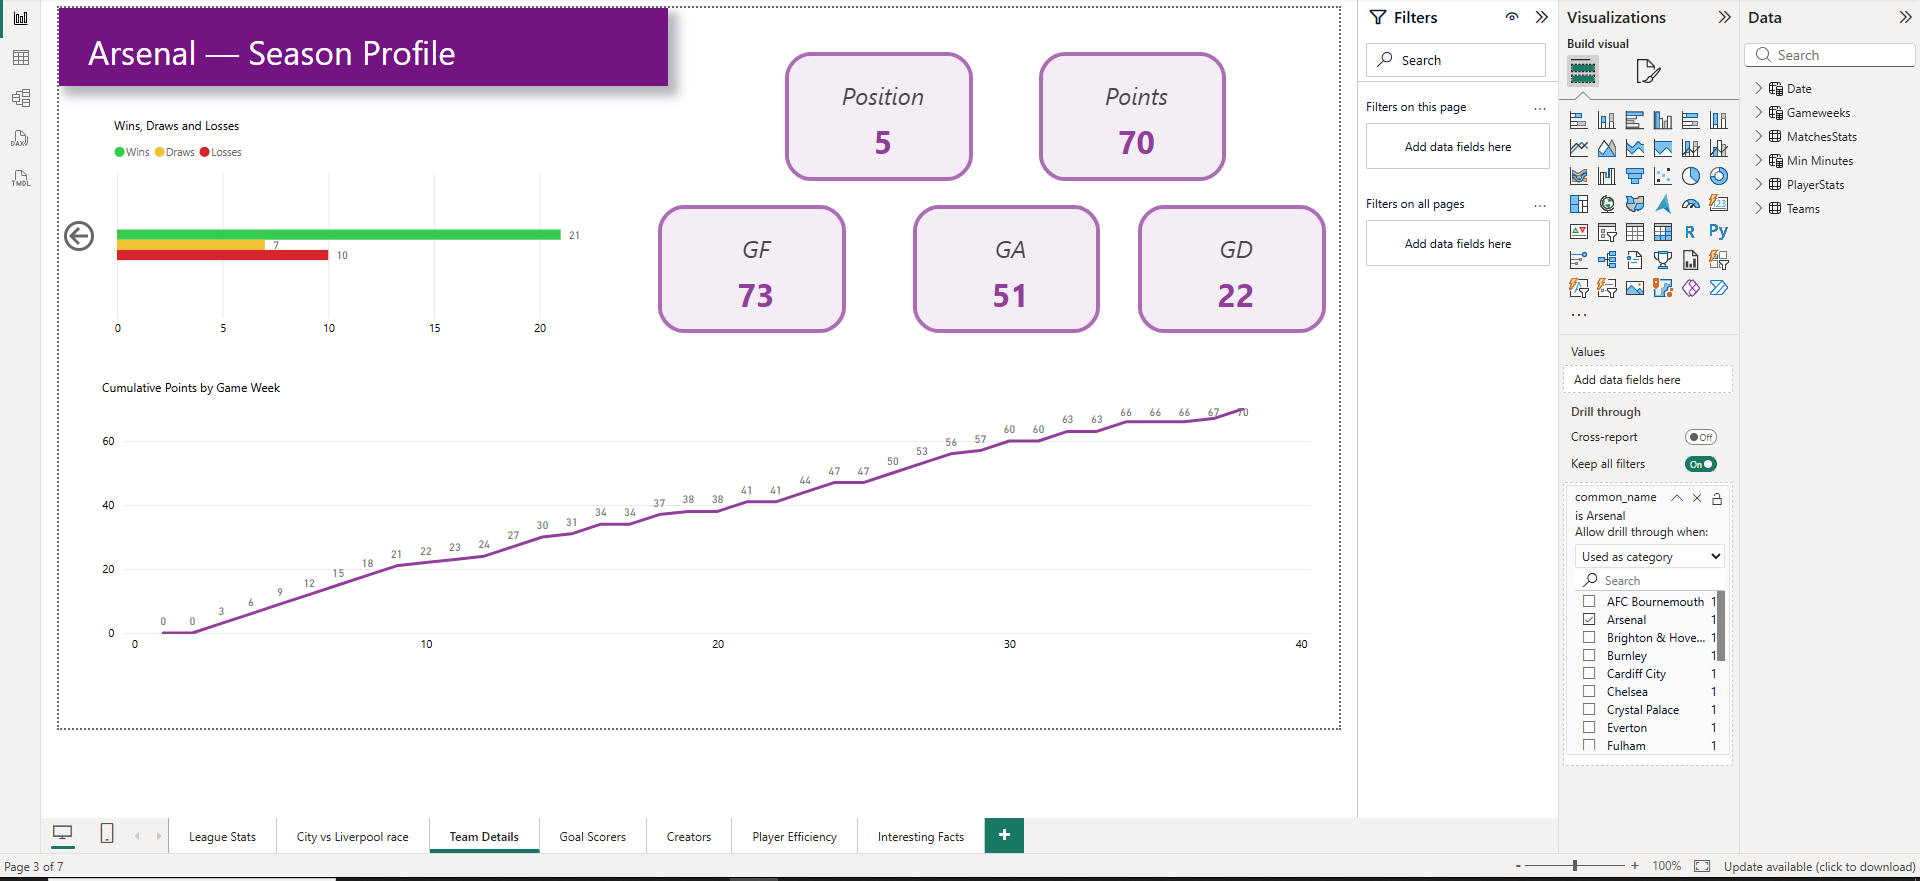

The page's visual inventory and layout, read from the dashboard file:
{"tool":"powerbi","page":{"name":"Team Details","canvas":[1280,720],"ordinal":2},"visuals":[{"type":"actionButton","box":[0,208,100,40],"z":0},{"type":"cardVisual","fields":{"Data":["MatchesStats.Position"]},"box":[721,39,198,139],"z":1000},{"type":"cardVisual","fields":{"Data":["MatchesStats.GD"]},"box":[1074,192,198,138],"z":2000},{"type":"cardVisual","fields":{"Data":["MatchesStats.Total Points"]},"box":[975,39,197,139],"z":3000},{"type":"cardVisual","fields":{"Data":["MatchesStats.GA"]},"box":[849,192,197,138],"z":4000},{"type":"cardVisual","fields":{"Data":["MatchesStats.GF"]},"box":[594,192,198,138],"z":5000},{"type":"lineChart","fields":{"Y":["Gameweeks.Cumulative Points"],"Category":["Gameweeks.Game Week"]},"box":[38,371,1219,283],"z":6000},{"type":"cardVisual","fields":{"Data":["Teams.Team Title"]},"box":[0,0,609,78],"z":7000},{"type":"clusteredBarChart","fields":{"Y":["MatchesStats.Wins","MatchesStats.Draws","MatchesStats.Losses"]},"box":[50,109,485,229],"z":8000}]}

Visuals, with their boxes on the page's 1280x720 design canvas (x1, y1, x2, y2). These are canvas units, not pixel positions in the 1920x881 screenshot, which may show the page scaled, cropped or inside an application window:
actionButton: 0:208:100:248
cardVisual - MatchesStats.Position: 721:39:919:178
cardVisual - MatchesStats.GD: 1074:192:1272:330
cardVisual - MatchesStats.Total Points: 975:39:1172:178
cardVisual - MatchesStats.GA: 849:192:1046:330
cardVisual - MatchesStats.GF: 594:192:792:330
lineChart - Gameweeks.Cumulative Points x Gameweeks.Game Week: 38:371:1257:654
cardVisual - Teams.Team Title: 0:0:609:78
clusteredBarChart - MatchesStats.Wins x MatchesStats.Draws: 50:109:535:338
